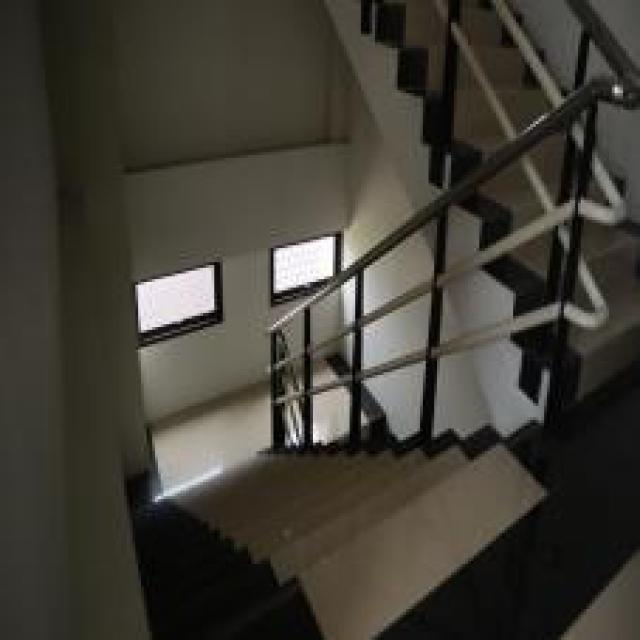downstair: (131, 444, 604, 638)
